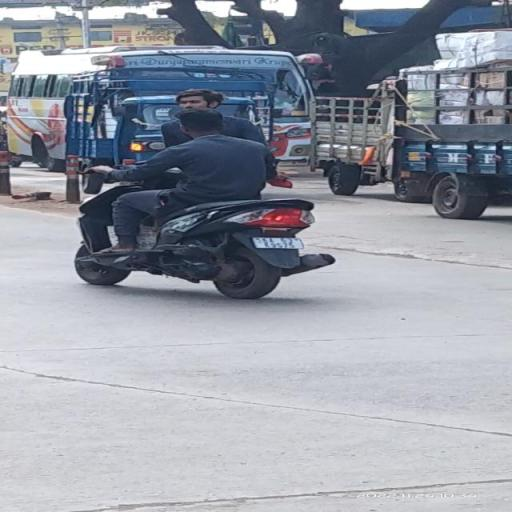bike: (72, 105, 338, 301)
numberplate: (256, 236, 306, 250)
withouthelmet: (176, 110, 226, 134)
